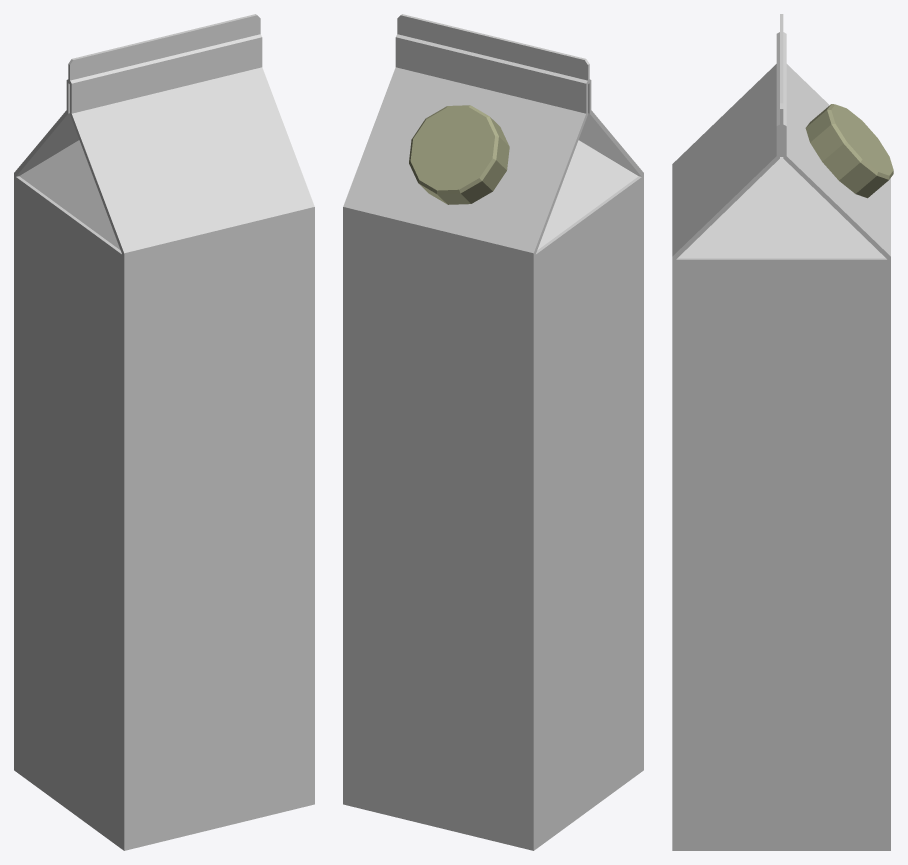
The model's file is milk.fbx.
3 views of the same model, side by side, from view 1: azimuth 30°, elevation 25°; view 2: azimuth 150°, elevation 25°; view 3: azimuth 270°, elevation 25° (orthographic).
Parts seen in each view (by area): view 1: Tetra Rex; view 2: Tetra Rex; view 3: Tetra Rex.
Boxes of the visible parts, bbox=[...] form: Tetra Rex: bbox=[14, 14, 314, 850]; Tetra Rex: bbox=[343, 14, 643, 850]; Tetra Rex: bbox=[672, 14, 893, 850].
Bounding box in the file's own units: 6.75 × 25.38 × 6.83.
